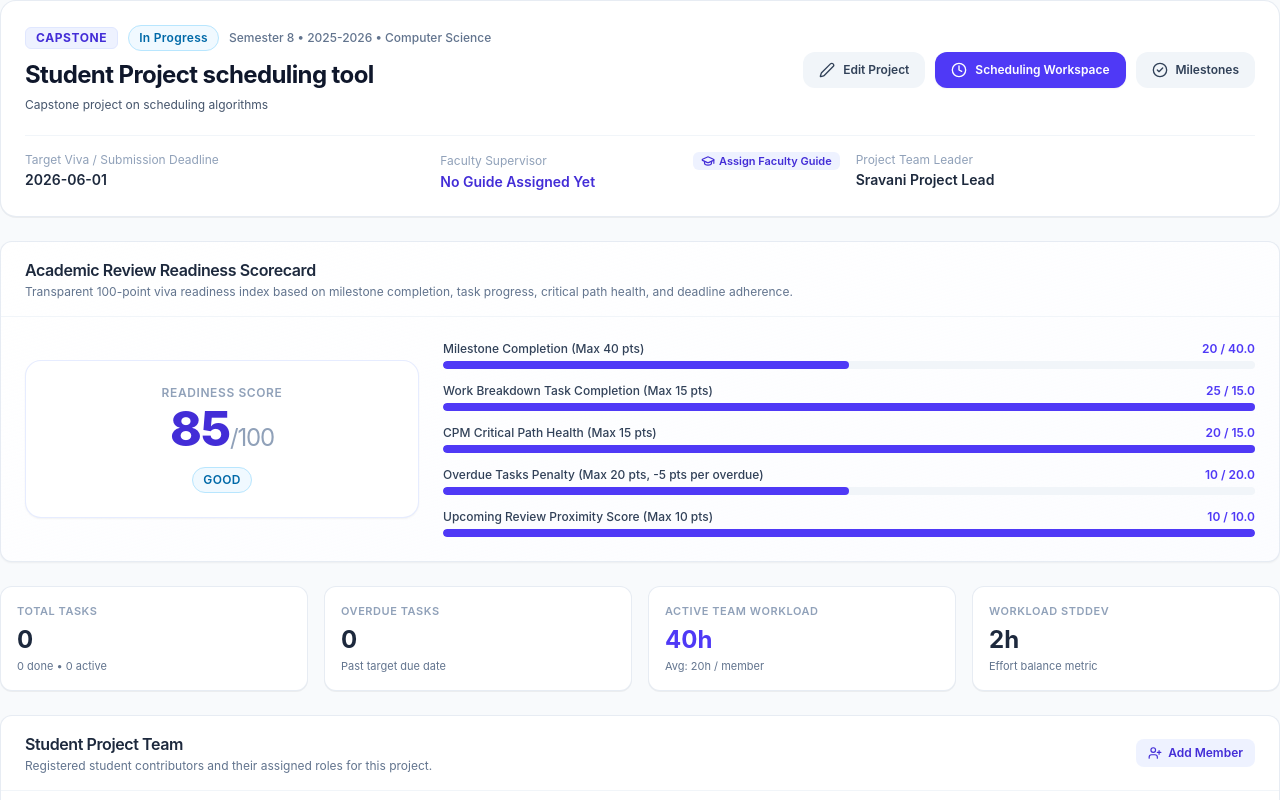
Test: Add Team Member Feature › displays empty state when no students are available
Expected: the heading "Student Project Team" is shown, left=25, top=734, right=183, bottom=754
Click the button "Add Member": click(1196, 753) left=1136, top=739, right=1255, bottom=767
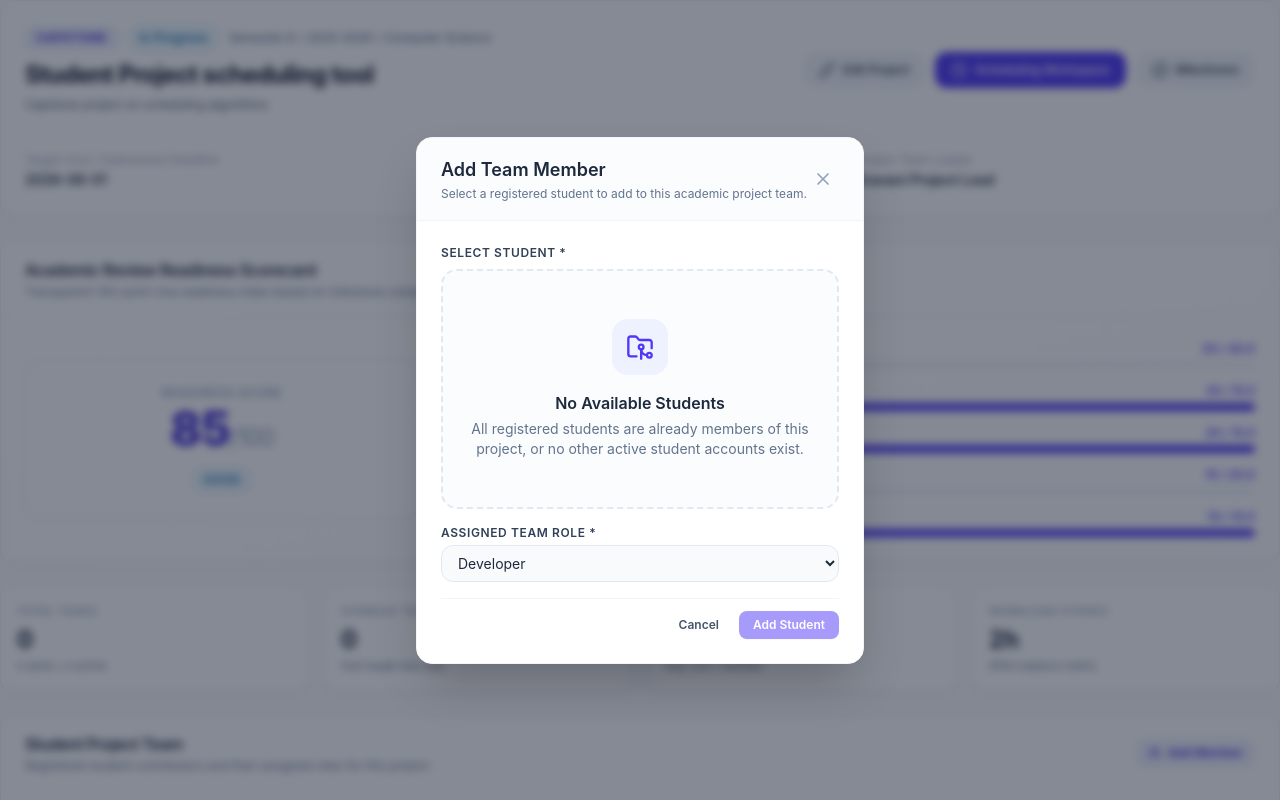
Now the heading "No Available Students" is shown, box left=555, top=390, right=725, bottom=414
